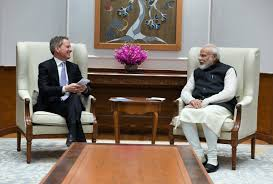Caution: (34, 32, 240, 142)
